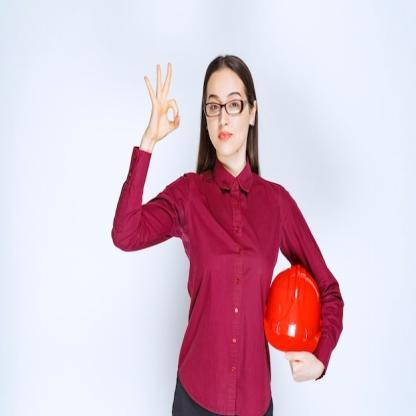ok: (140, 60, 182, 144)
